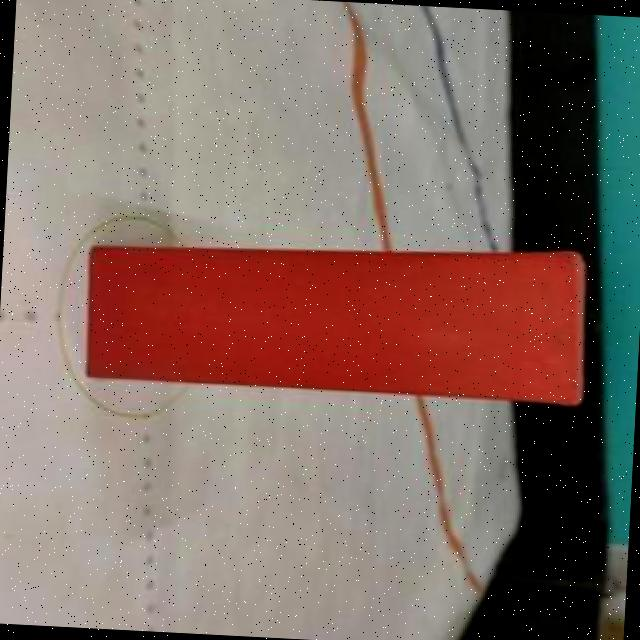redbox: (84, 224, 596, 406)
